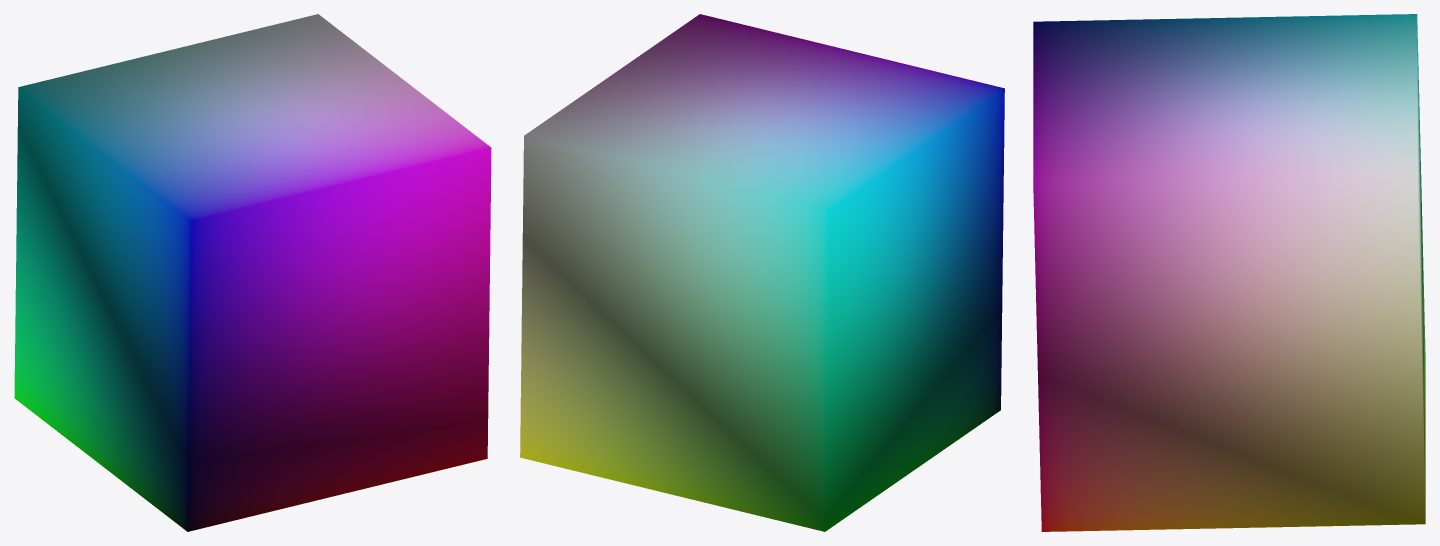
File: TestCube.fbx
The picture shows the model from 3 angles, left to right: view 1: azimuth 30°, elevation 25°; view 2: azimuth 150°, elevation 25°; view 3: azimuth 270°, elevation 25°; orthographic projection. The views are drawn at different scales.
Parts seen in each view (by area): view 1: Cube; view 2: Cube; view 3: Cube.
Part boxes in pixels (<box>): Cube: <box>14,14,491,531</box>; Cube: <box>520,14,1004,531</box>; Cube: <box>1033,14,1425,531</box>.
Size of the model in its own units: 100 by 102 by 102.
